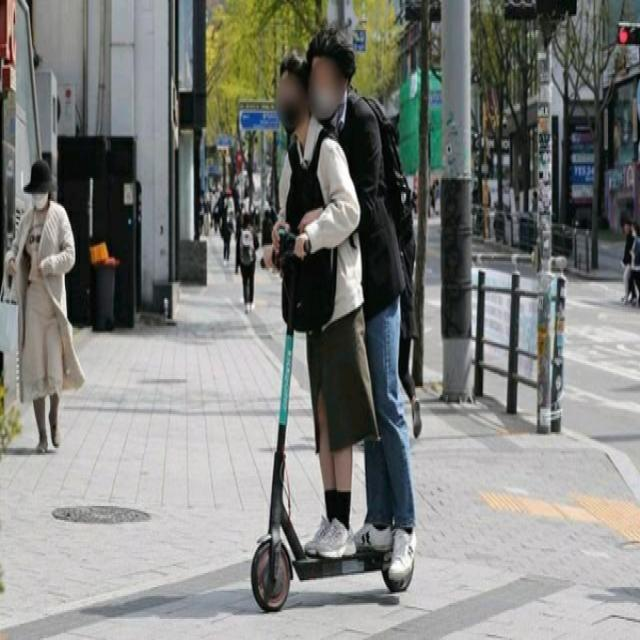non-helmet: (243, 22, 428, 614)
